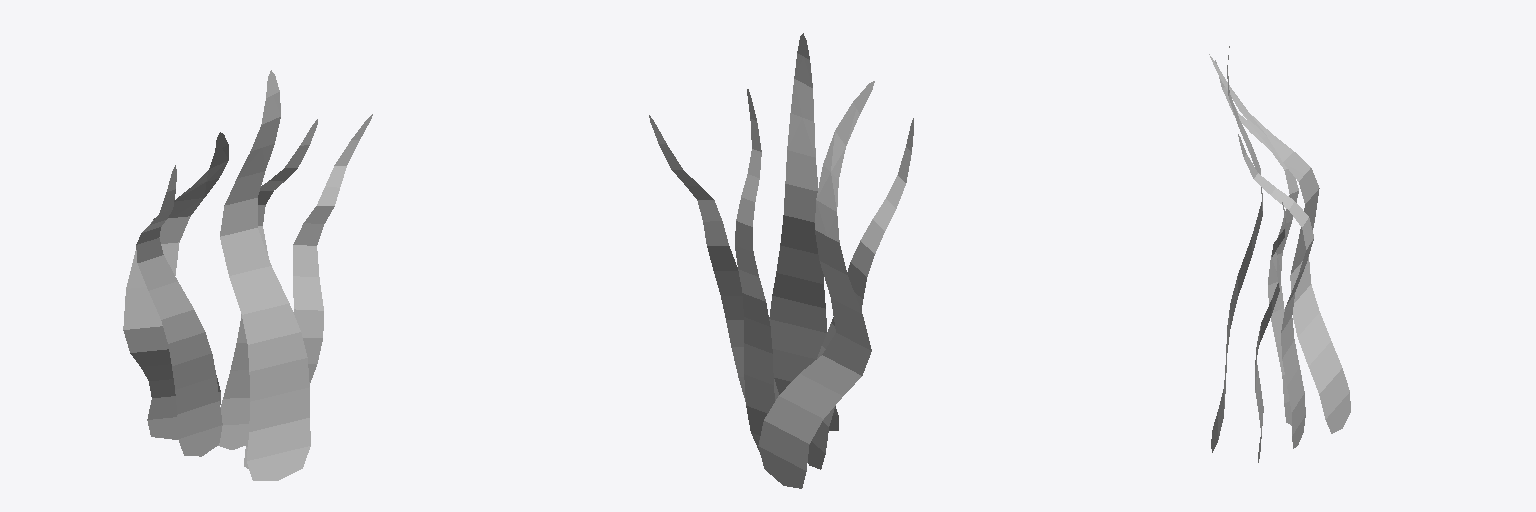
Rendered from Grass_01.obj.
The picture shows the model from 3 angles: view 1: azimuth 30°, elevation 25°; view 2: azimuth 150°, elevation 25°; view 3: azimuth 270°, elevation 25°; orthographic projection.
Visible parts, largest first — view 1: Grass_Plane; view 2: Grass_Plane; view 3: Grass_Plane.
Boxes of the visible parts, x1=… form: Grass_Plane: x1=123, y1=70, x2=372, y2=480; Grass_Plane: x1=649, y1=33, x2=913, y2=488; Grass_Plane: x1=1209, y1=46, x2=1350, y2=462.
Bounding box in the file's own units: 2.37 × 3.97 × 1.23.